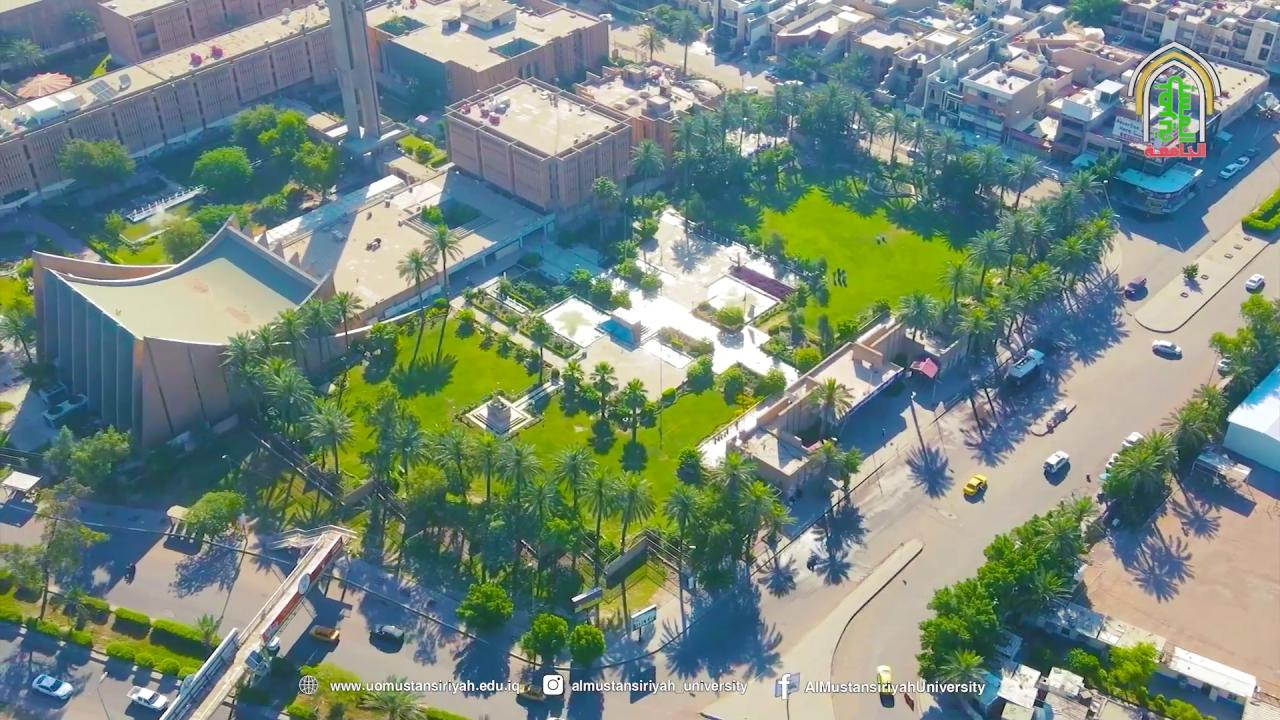car: (1006, 347, 1045, 387), (31, 673, 74, 700), (126, 686, 169, 711), (876, 664, 896, 707), (1219, 155, 1249, 179), (1043, 450, 1069, 474), (372, 623, 404, 640), (1152, 338, 1182, 356), (1124, 276, 1147, 299), (962, 474, 986, 496), (309, 625, 340, 642), (516, 683, 545, 701), (1121, 431, 1144, 449), (1245, 273, 1265, 292), (1104, 451, 1120, 472), (1216, 354, 1232, 373), (265, 636, 281, 653), (598, 12, 614, 23)
fountain: (704, 274, 779, 322), (122, 183, 207, 223), (547, 299, 603, 346)
person: (124, 563, 135, 584)
tree: (915, 490, 1096, 700), (2, 474, 110, 620), (354, 393, 430, 565), (1064, 640, 1215, 719), (916, 576, 1002, 694), (1099, 427, 1180, 527), (168, 526, 249, 624), (661, 482, 702, 635), (421, 222, 464, 366), (578, 465, 622, 586), (256, 355, 315, 444), (1128, 526, 1195, 603), (395, 246, 437, 367), (520, 476, 562, 597), (1160, 381, 1228, 451), (799, 81, 852, 169), (65, 423, 131, 493), (53, 135, 136, 190), (326, 290, 364, 408), (301, 396, 355, 476), (1098, 640, 1158, 707), (292, 661, 362, 718), (611, 470, 656, 554), (180, 489, 244, 548), (189, 145, 253, 202), (429, 425, 477, 500), (963, 226, 1009, 300), (549, 442, 599, 510), (1207, 326, 1259, 390), (0, 272, 36, 363), (466, 431, 508, 508), (295, 297, 341, 367), (356, 674, 427, 719), (805, 375, 854, 440), (494, 440, 543, 505), (421, 222, 464, 292), (290, 139, 341, 198), (454, 580, 513, 629), (669, 115, 706, 193), (953, 303, 998, 366), (936, 646, 988, 696), (590, 175, 620, 261), (666, 9, 703, 75), (156, 216, 207, 263), (894, 288, 939, 341), (627, 137, 666, 198), (615, 377, 651, 442), (525, 611, 567, 665), (270, 307, 310, 363), (1005, 152, 1042, 211), (328, 289, 363, 350), (565, 622, 606, 668), (832, 445, 863, 504), (881, 110, 911, 170), (1241, 186, 1279, 233), (588, 359, 617, 419), (936, 258, 973, 305), (527, 318, 553, 384), (677, 191, 705, 252), (1065, 646, 1102, 691), (558, 358, 584, 415), (63, 7, 97, 45), (718, 364, 748, 405), (685, 352, 713, 393), (590, 174, 620, 212), (618, 439, 648, 477), (396, 132, 434, 162), (676, 446, 705, 485), (612, 236, 638, 278), (754, 365, 786, 399), (636, 24, 665, 61), (195, 612, 222, 651), (713, 304, 745, 336), (815, 313, 835, 357), (588, 275, 612, 307), (453, 307, 475, 338), (1181, 260, 1199, 281)
